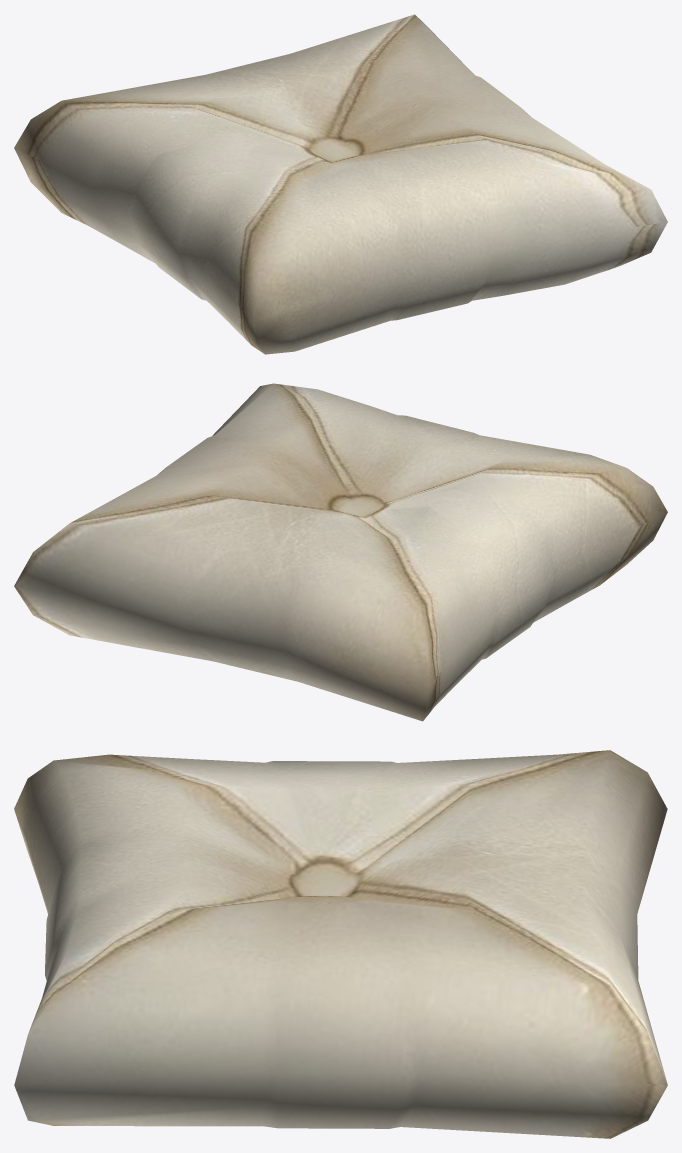
Rendered from coussin_lo (2).fbx.
The picture shows the model from 3 angles, top to bottom: view 1: azimuth 30°, elevation 25°; view 2: azimuth 150°, elevation 25°; view 3: azimuth 270°, elevation 25°; orthographic projection. The views are drawn at different scales.
Parts seen in each view (by area): view 1: coussin_low; view 2: coussin_low; view 3: coussin_low.
Part boxes in pixels (x1,y1,x2,y2): coussin_low: (14, 14, 667, 354); coussin_low: (14, 383, 667, 721); coussin_low: (14, 750, 667, 1138).
Size of the model in its own units: 205 by 65.29 by 205.
